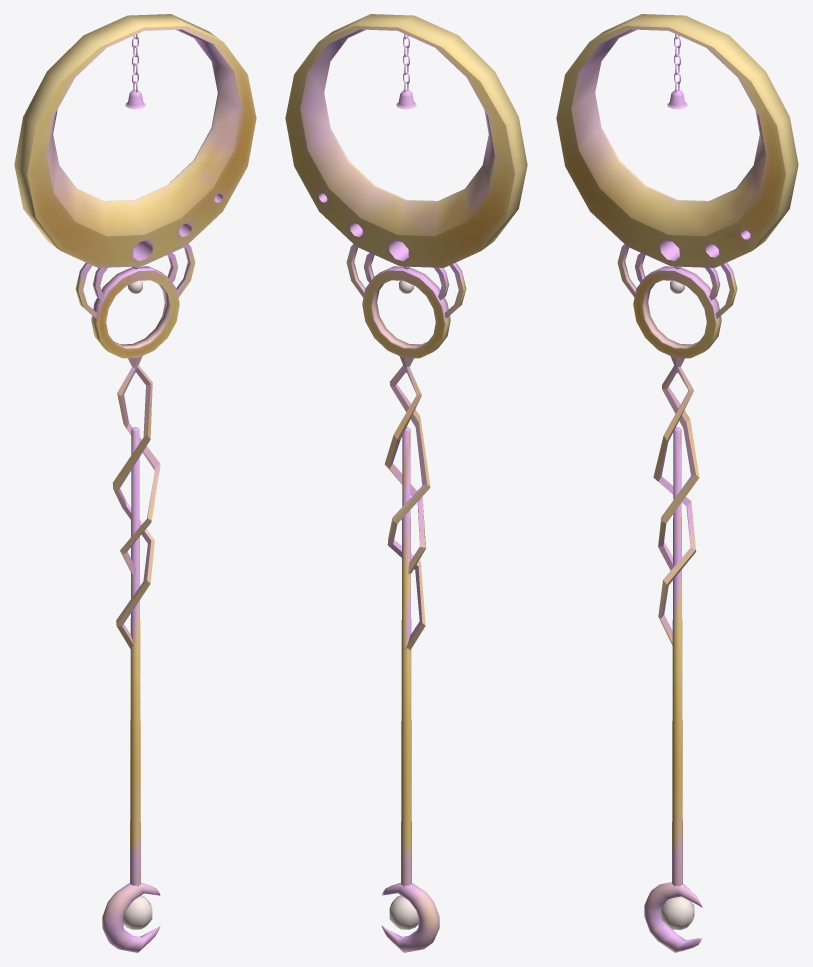
Rendered from wep_staff2.glb.
The picture shows the model from 3 angles, left to right: view 1: azimuth 30°, elevation 25°; view 2: azimuth 150°, elevation 25°; view 3: azimuth 330°, elevation 25°; orthographic projection.
Visible parts, largest first — view 1: Cube__0; view 2: Cube__0; view 3: Cube__0.
Part boxes in pixels (x1=…): Cube__0: x1=14, y1=14, x2=256, y2=952; Cube__0: x1=285, y1=14, x2=527, y2=952; Cube__0: x1=556, y1=14, x2=798, y2=952.
Size of the model in its own units: 0.4924 by 1.91 by 0.1103.
Materials: 1 (1 with a texture image).
